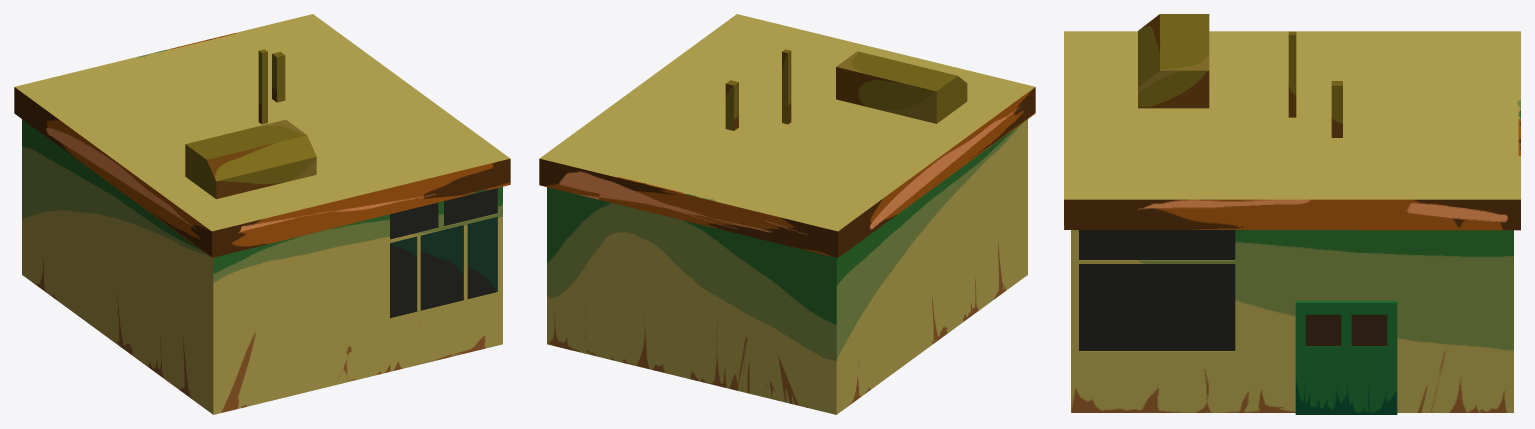
Rendered from buildingBackground1FBX.fbx.
The picture shows the model from 3 angles, left to right: view 1: azimuth 30°, elevation 25°; view 2: azimuth 150°, elevation 25°; view 3: azimuth 270°, elevation 25°; orthographic projection. The views are drawn at different scales.
Parts seen in each view (by area): view 1: buildingBase, roofThing1, window3, window2, window4, window1, window, roofThing2, roofThing3; view 2: buildingBase, roofThing1, roofThing2, roofThing3; view 3: buildingBase, window5, roofThing1, doorFrameR, doorFrameL, window6, doorWindowL, doorWindowR, roofThing2, roofThing3.
Boxes of the visible parts, x1,y1,x2,y2 form: buildingBase: [14, 14, 510, 414]; roofThing1: [185, 119, 316, 199]; window3: [420, 225, 463, 310]; window2: [467, 217, 497, 299]; window4: [390, 236, 416, 318]; window1: [444, 188, 497, 226]; window: [390, 202, 438, 239]; roofThing2: [258, 49, 267, 124]; roofThing3: [272, 52, 285, 102]; buildingBase: [539, 14, 1035, 414]; roofThing1: [836, 51, 967, 123]; roofThing2: [782, 49, 791, 124]; roofThing3: [725, 80, 738, 130]; buildingBase: [1064, 31, 1520, 412]; window5: [1079, 264, 1235, 350]; roofThing1: [1138, 14, 1209, 108]; doorFrameR: [1346, 301, 1397, 414]; doorFrameL: [1295, 301, 1346, 414]; window6: [1079, 230, 1235, 259]; doorWindowL: [1305, 314, 1341, 346]; doorWindowR: [1351, 314, 1387, 346]; roofThing2: [1288, 31, 1296, 117]; roofThing3: [1331, 81, 1342, 137].
Bounding box in the file's own units: 134 × 110 × 153.
